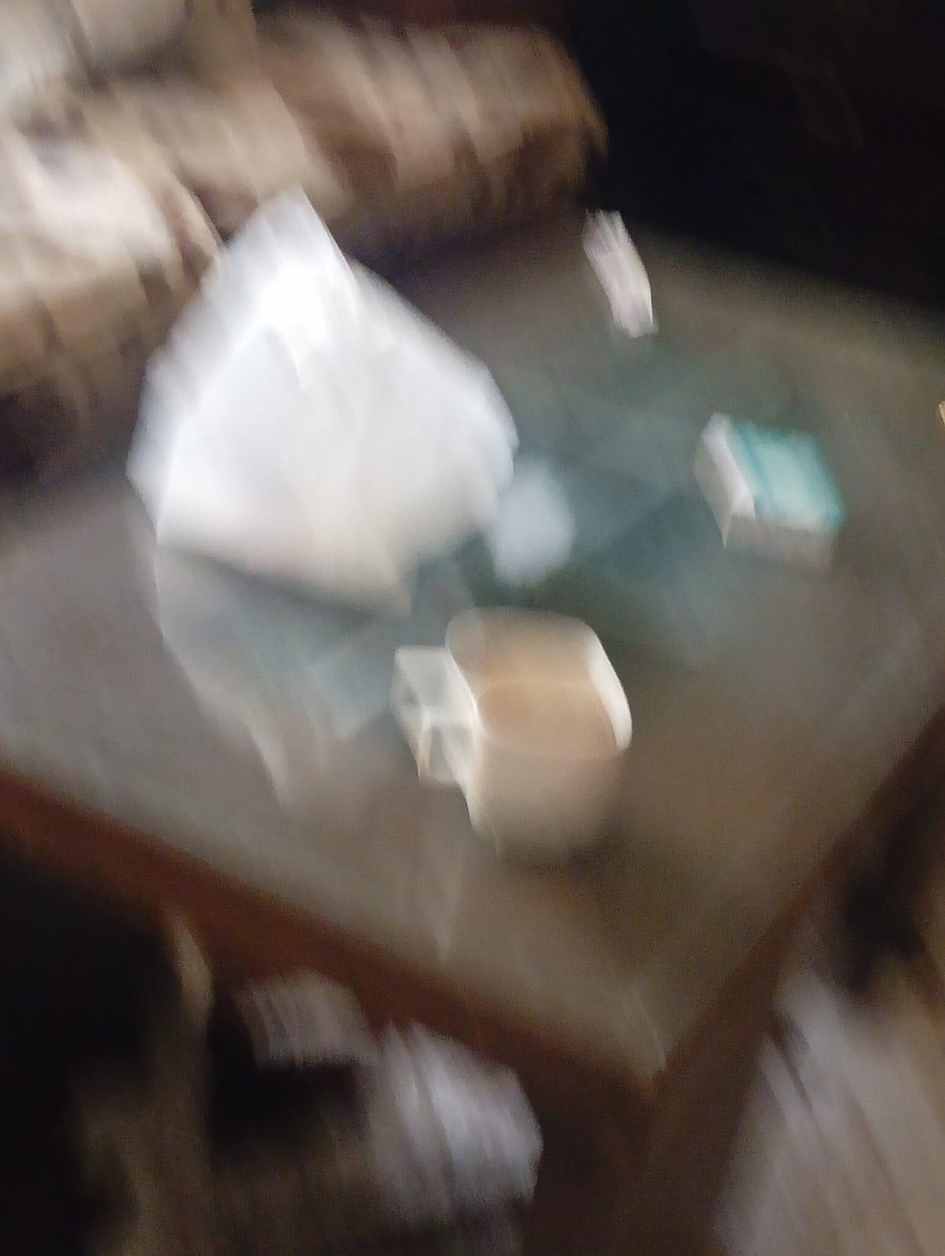cup: (392, 609, 630, 859)
